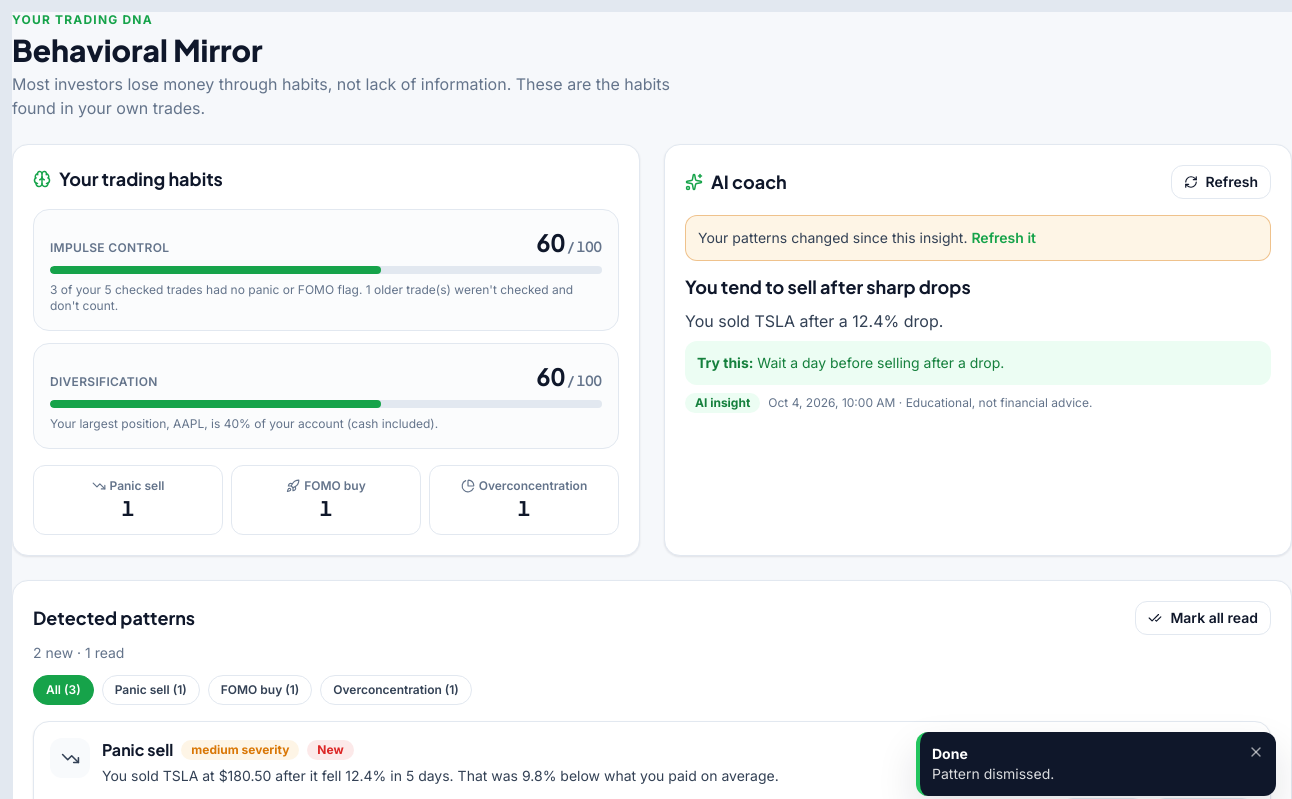
Behavioral Mirror › warns when the saved insight is out of date, and refreshes it
Expected: the message with test id "coach-stale" shows "Your patterns changed since this insight.", top-left (698, 229), bottom-right (971, 246)
Click the button "Refresh it". click: x=1004, y=238
box: top-left (971, 228), bottom-right (1036, 248)
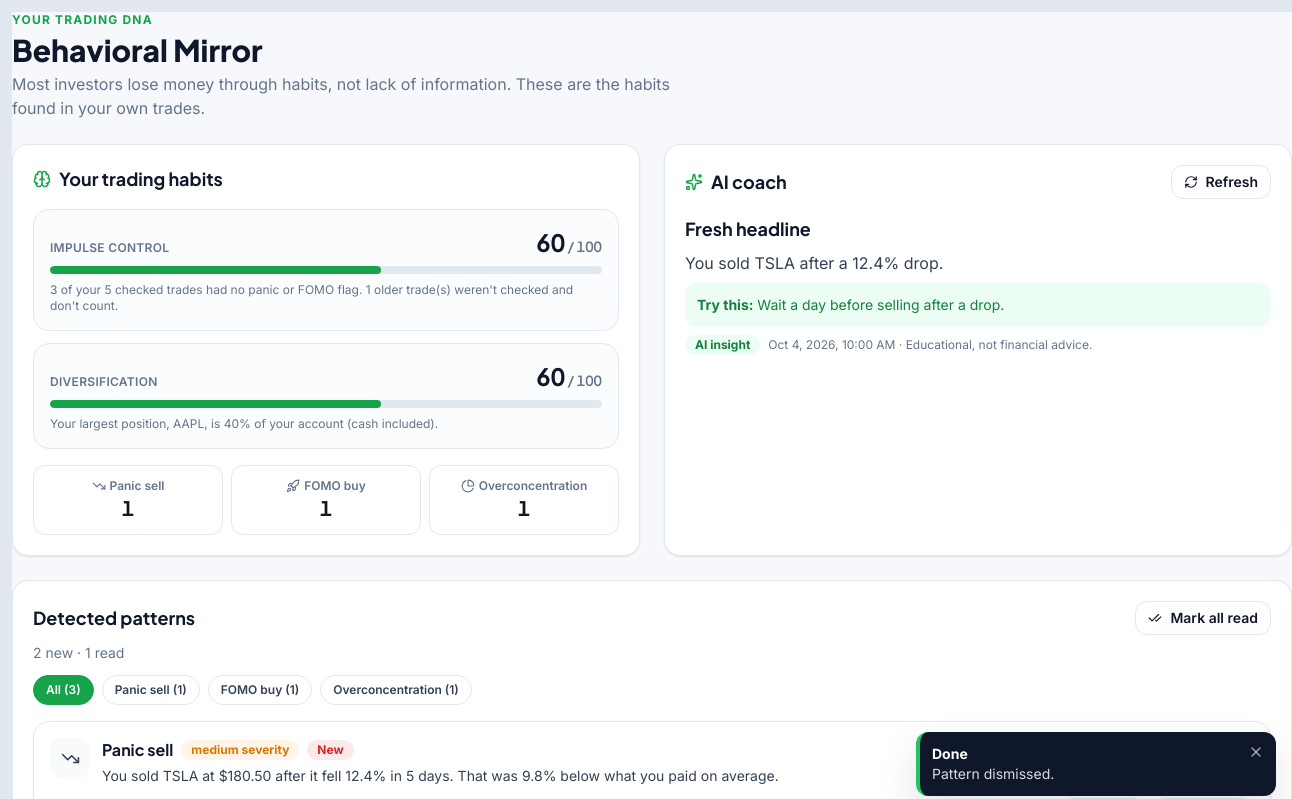
Expected: the heading "Fresh headline" is shown, top-left (685, 217), bottom-right (811, 240)
